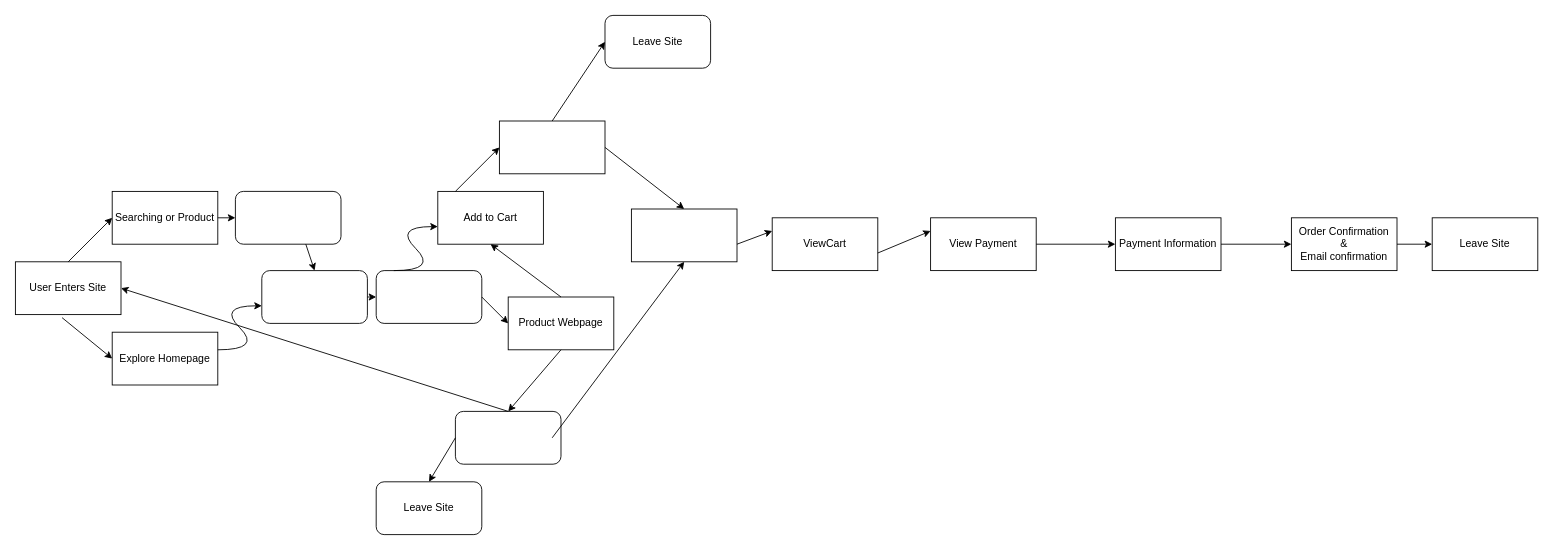
Image size: 1553x550. Some labels were removed from this diagram. Each missing label, with the centre of its shape:
Added to cart Confirmation: [552,147]
checkOut: [684,235]
Continue Shopping: [508,437]
Look at Products: [314,296]
Looking at a Specific Product: [428,296]
Provides Search Param: [288,217]
